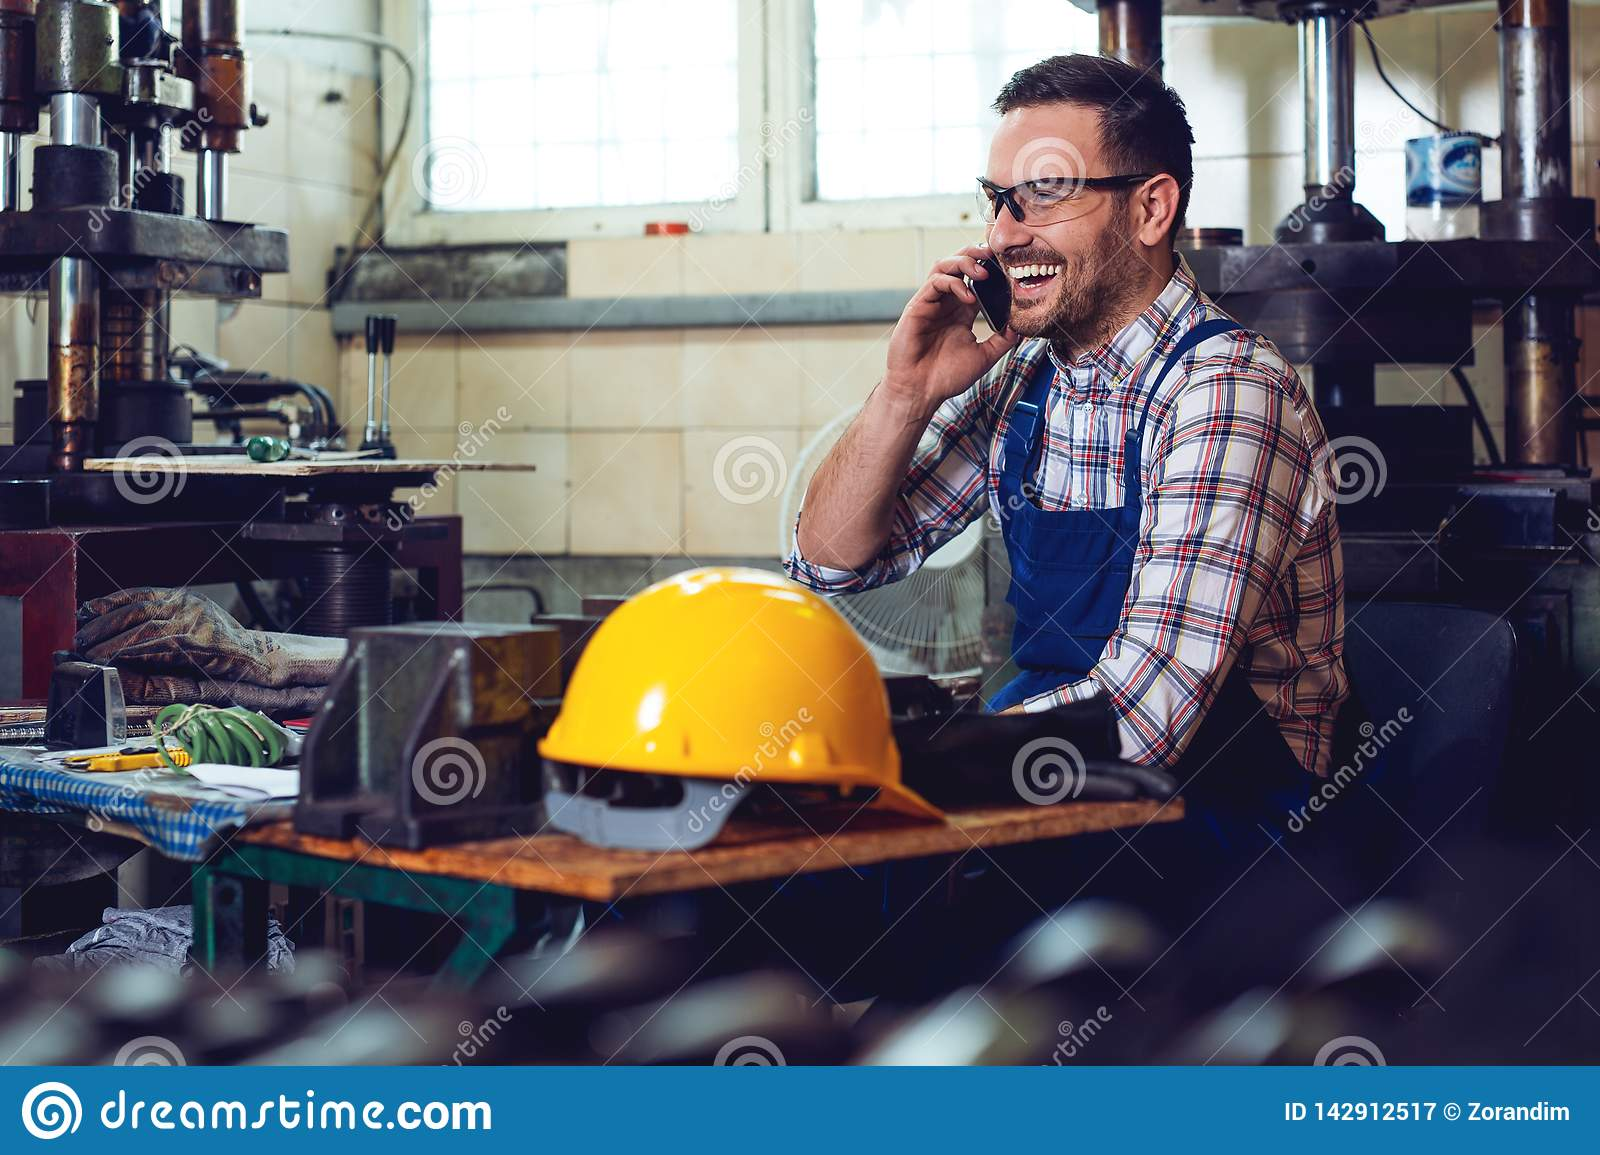phone: (966, 238, 1014, 344)
talk: (881, 166, 1084, 412)
